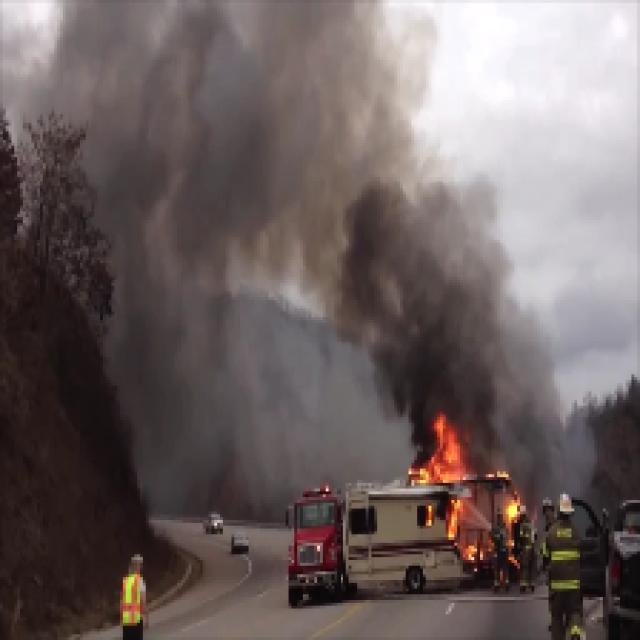fire: (414, 419, 472, 491)
smoke: (68, 2, 426, 286), (383, 297, 554, 415)
